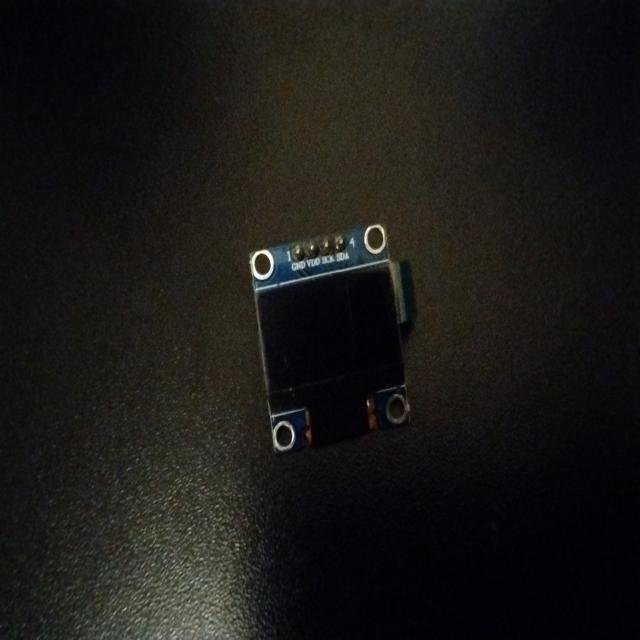oled: (247, 220, 417, 456)
